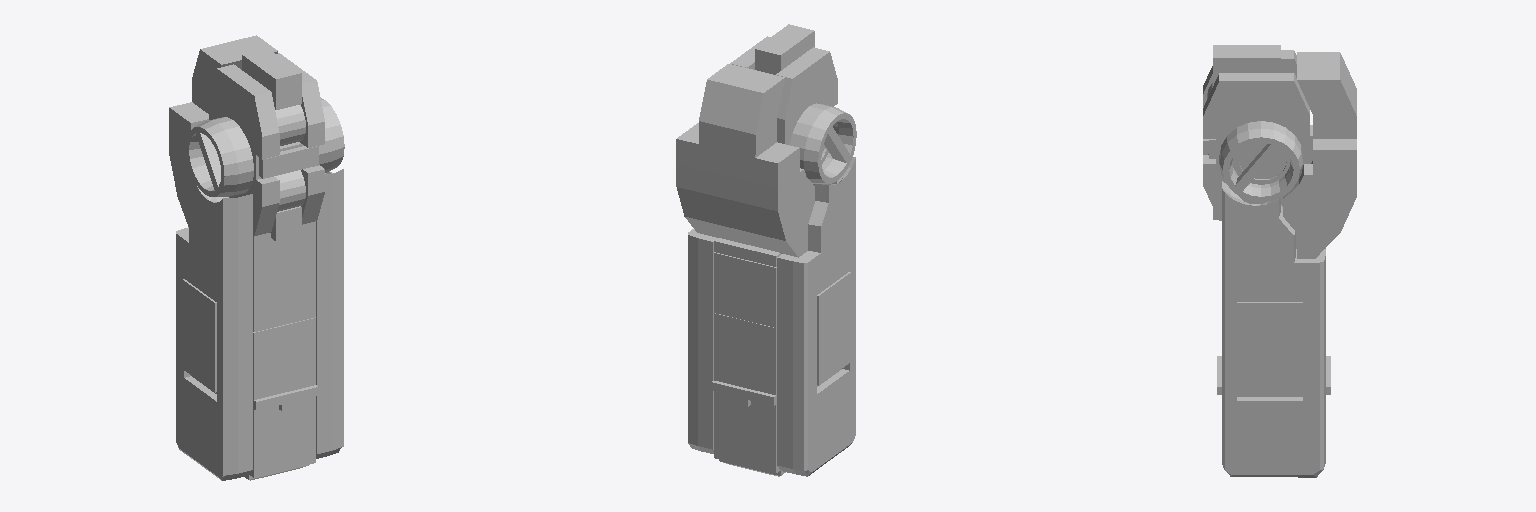
File: dlefthand.obj
The picture shows the model from 3 angles: view 1: azimuth 30°, elevation 25°; view 2: azimuth 150°, elevation 25°; view 3: azimuth 270°, elevation 25°; orthographic projection.
Bounding box in the file's own units: 1.86 × 5.82 × 1.98.